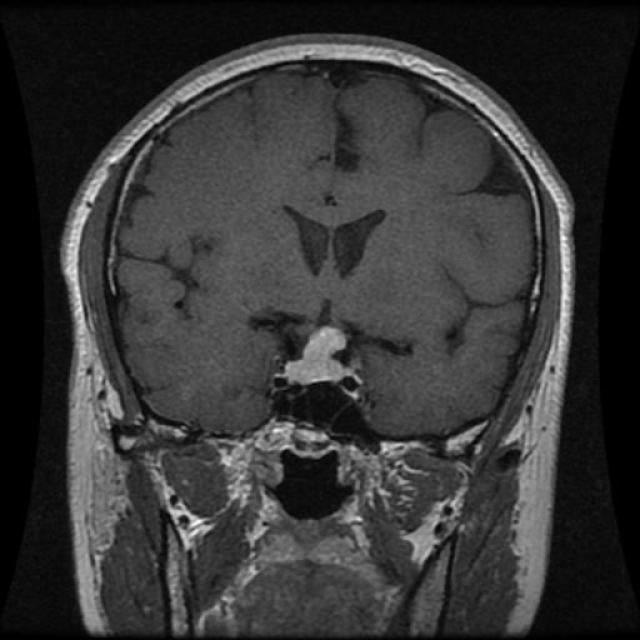pituitary: (278, 320, 367, 402)
